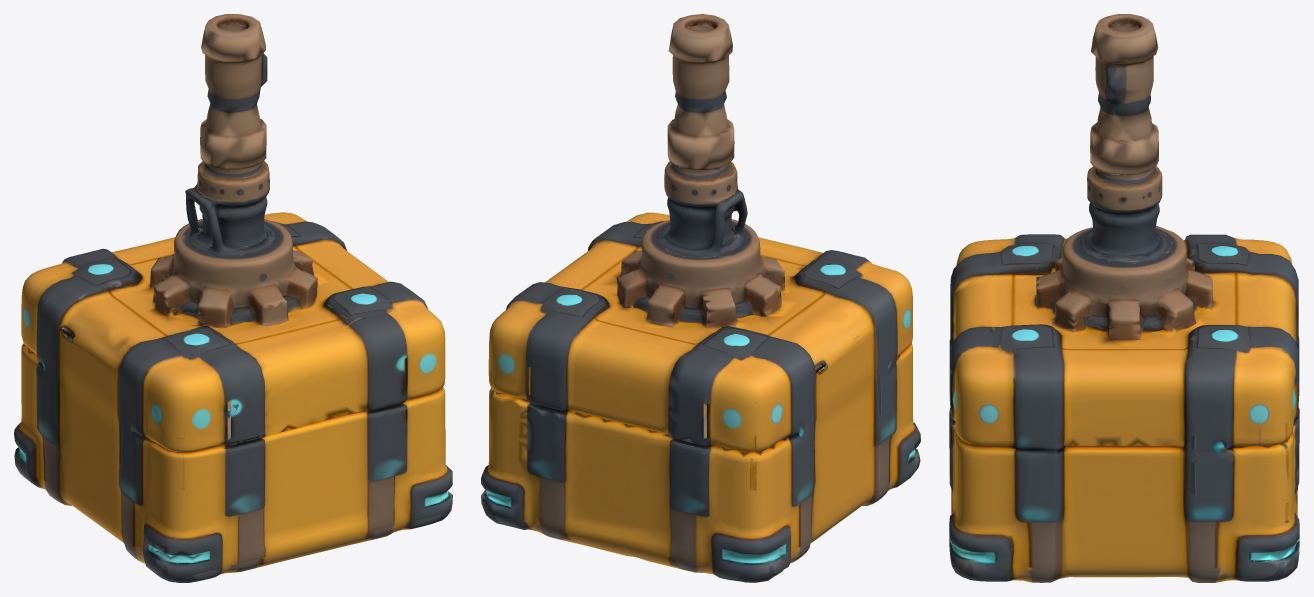
Rendered from Piston Hammer - A_texture.fbx.
The picture shows the model from 3 angles, left to right: view 1: azimuth 30°, elevation 25°; view 2: azimuth 150°, elevation 25°; view 3: azimuth 270°, elevation 25°; orthographic projection. The views are drawn at different scales.
Visible parts, largest first — view 1: Mesh0; view 2: Mesh0; view 3: Mesh0.
Part boxes in pixels (left/top/right/bottom): Mesh0: left=14, top=14, right=452, bottom=582; Mesh0: left=481, top=14, right=920, bottom=582; Mesh0: left=949, top=14, right=1299, bottom=582.
Size of the model in its own units: 123 by 192 by 123.
1 material, 1 textured.
